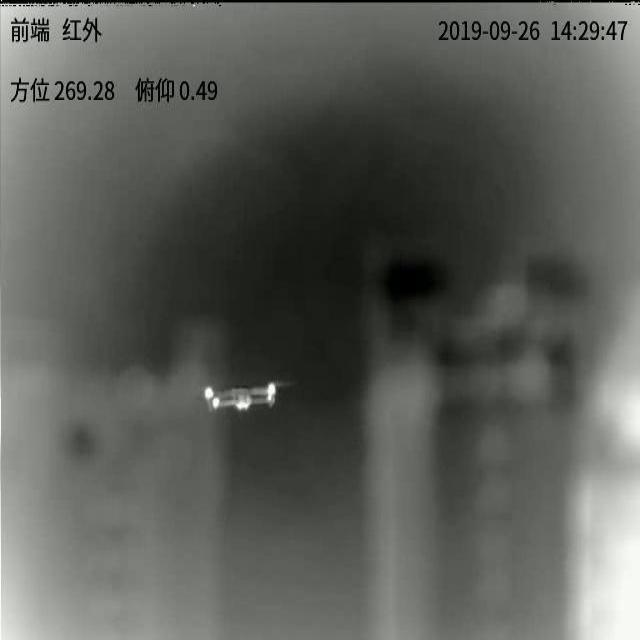drone: (203, 381, 276, 412)
